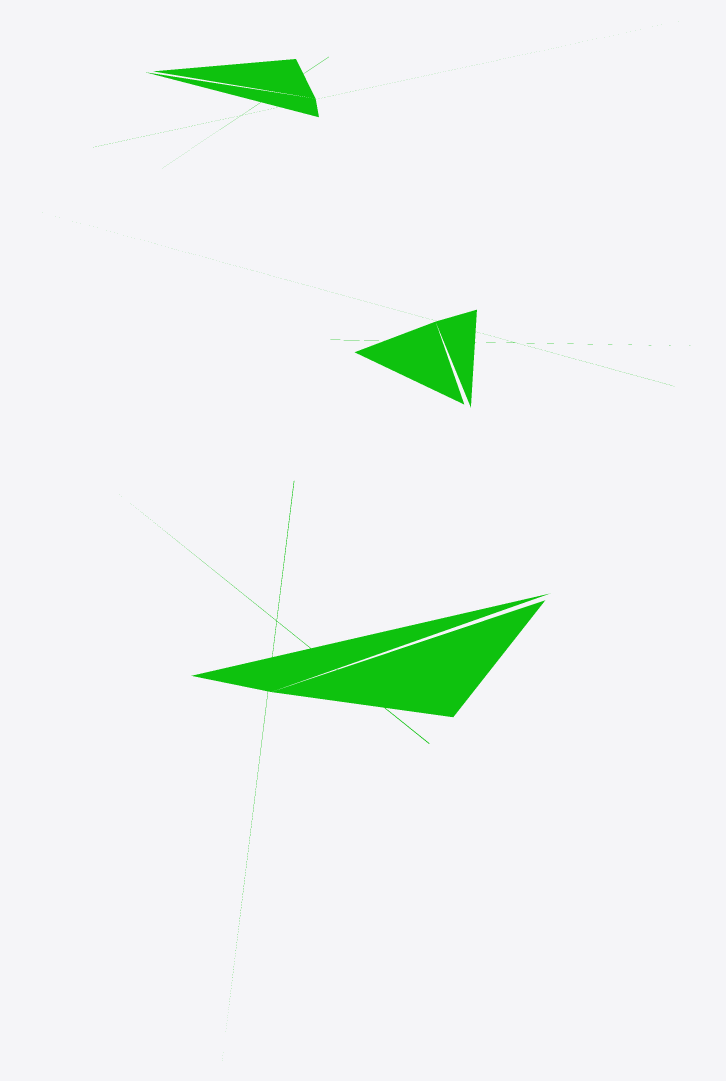
The picture shows the model from 3 angles, top to bottom: view 1: azimuth 30°, elevation 25°; view 2: azimuth 150°, elevation 25°; view 3: azimuth 270°, elevation 25°; orthographic projection. The views are drawn at different scales.
Bounding box in the file's own units: 283 × 0 × 100.
